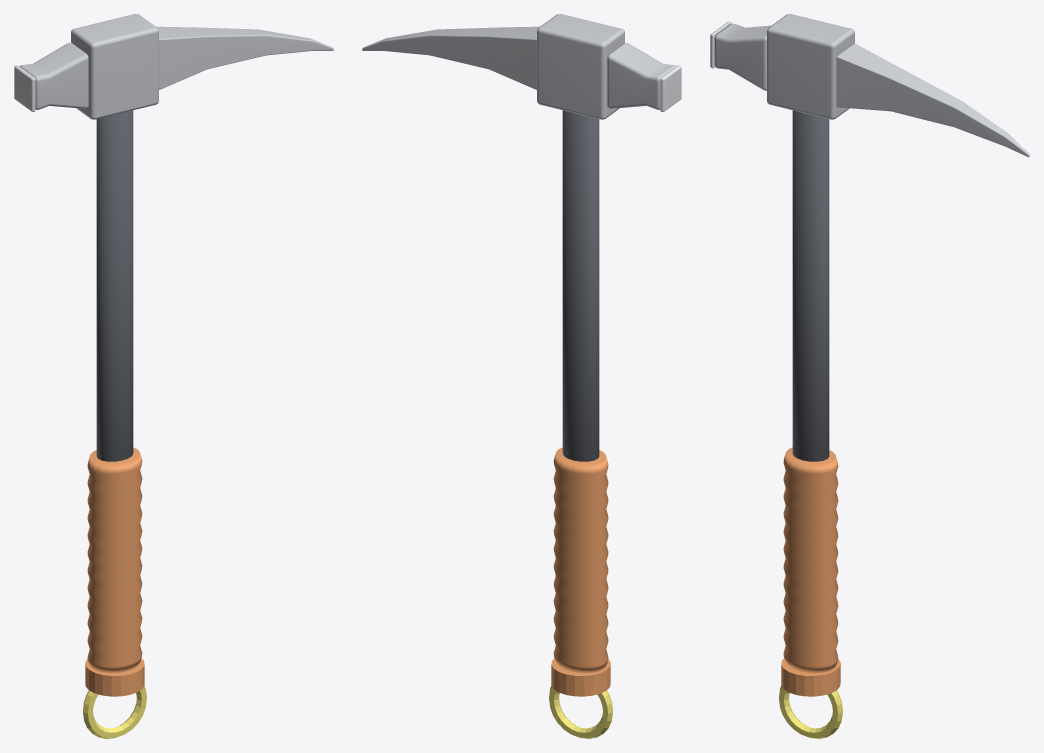
File: rock-pick.glb
3 renders of one model, left to right at view 1: azimuth 30°, elevation 25°; view 2: azimuth 150°, elevation 25°; view 3: azimuth 330°, elevation 25°, orthographic.
Visible parts, largest first — view 1: handle, grip, head_eye, head_pick, head_hammer, grip_butt, tether_loop, head_face; view 2: handle, grip, head_eye, head_pick, head_hammer, grip_butt, tether_loop, head_face; view 3: handle, grip, head_pick, head_eye, head_hammer, grip_butt, tether_loop.
Part boxes in pixels (left/top/right/bottom): handle: left=96, top=110, right=133, bottom=461; grip: left=87, top=447, right=142, bottom=673; head_eye: left=71, top=14, right=158, bottom=119; head_pick: left=156, top=26, right=333, bottom=89; head_hammer: left=19, top=43, right=88, bottom=109; grip_butt: left=85, top=658, right=144, bottom=696; tether_loop: left=83, top=686, right=146, bottom=738; head_face: left=14, top=65, right=35, bottom=111; handle: left=562, top=110, right=599, bottom=461; grip: left=553, top=447, right=608, bottom=673; head_eye: left=537, top=14, right=624, bottom=119; head_pick: left=362, top=26, right=539, bottom=89; head_hammer: left=607, top=43, right=676, bottom=109; grip_butt: left=551, top=658, right=610, bottom=696; tether_loop: left=549, top=686, right=612, bottom=738; head_face: left=660, top=65, right=681, bottom=111; handle: left=792, top=110, right=829, bottom=461; grip: left=783, top=447, right=838, bottom=673; head_pick: left=836, top=43, right=1029, bottom=157; head_eye: left=767, top=14, right=854, bottom=119; head_hammer: left=714, top=23, right=770, bottom=90; grip_butt: left=781, top=658, right=840, bottom=696; tether_loop: left=779, top=686, right=842, bottom=738.
Bounding box in the file's own units: 0.253 × 0.552 × 0.042.
